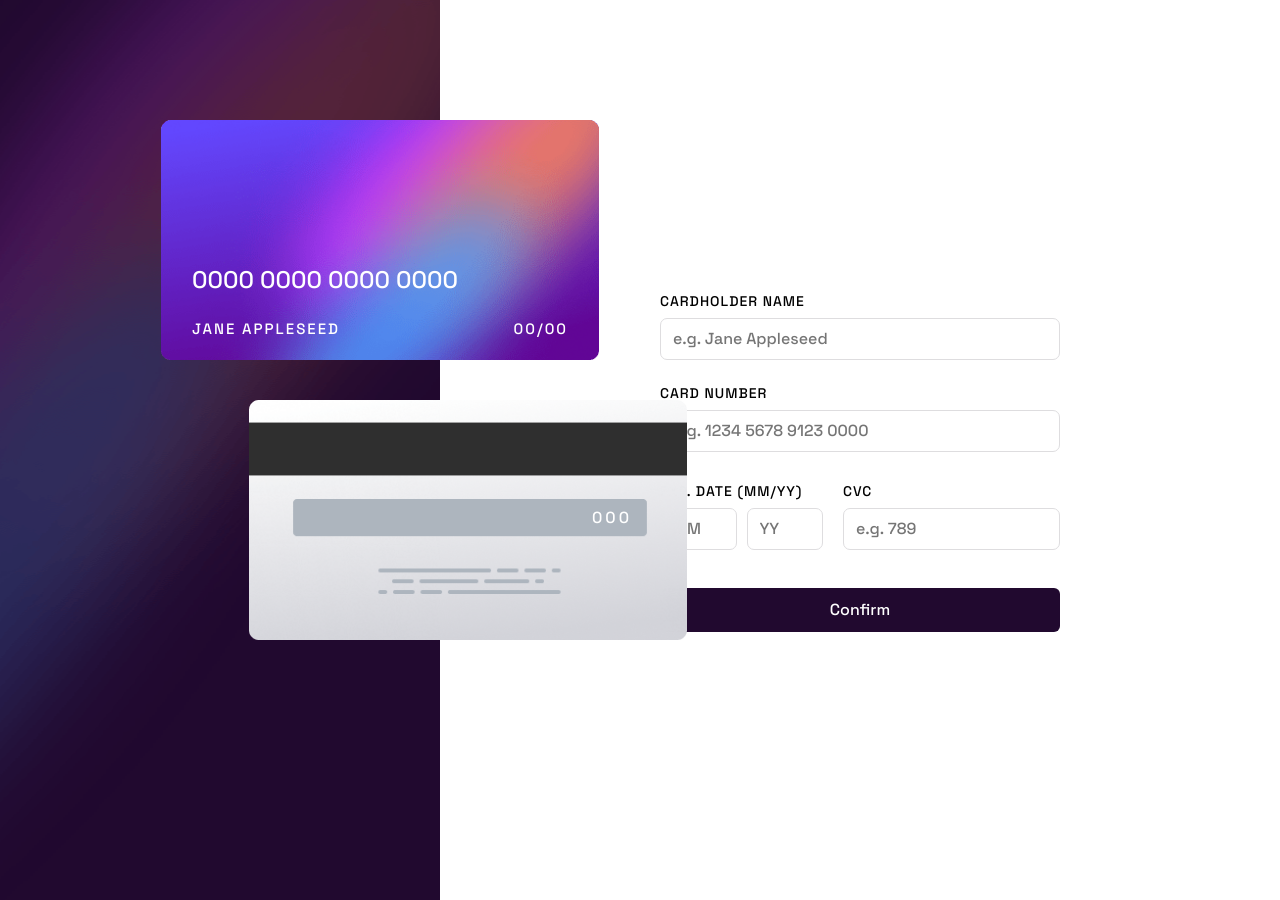
Test case: App › should show thank you message when all details are valid
Type "Elon Musk" into the field labelled "Cardholder Name" at (860, 339), box [660,318,1060,360]
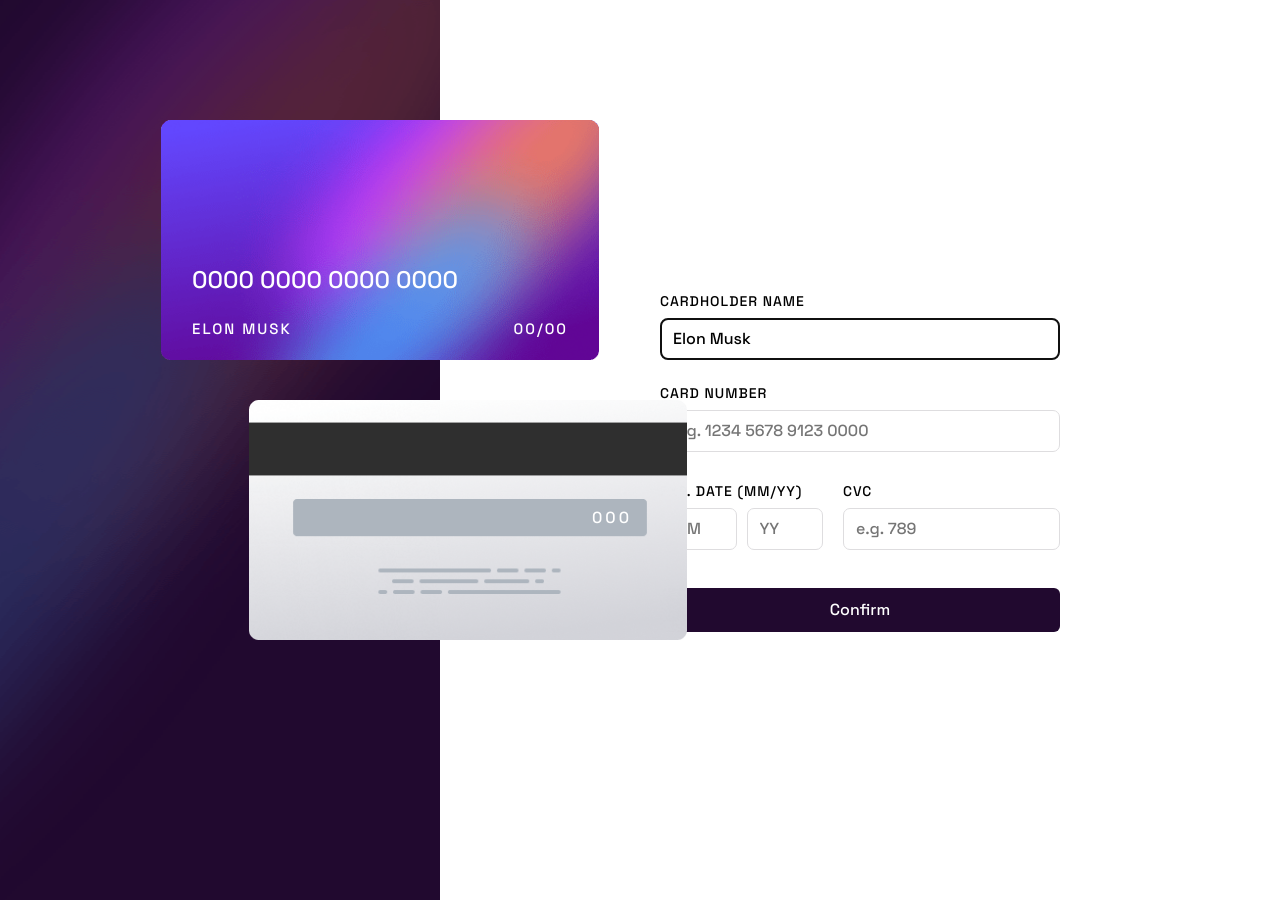
Type "4111 1111 1111 1111" into the field labelled "Card Number" at (860, 431), box [660,410,1060,452]
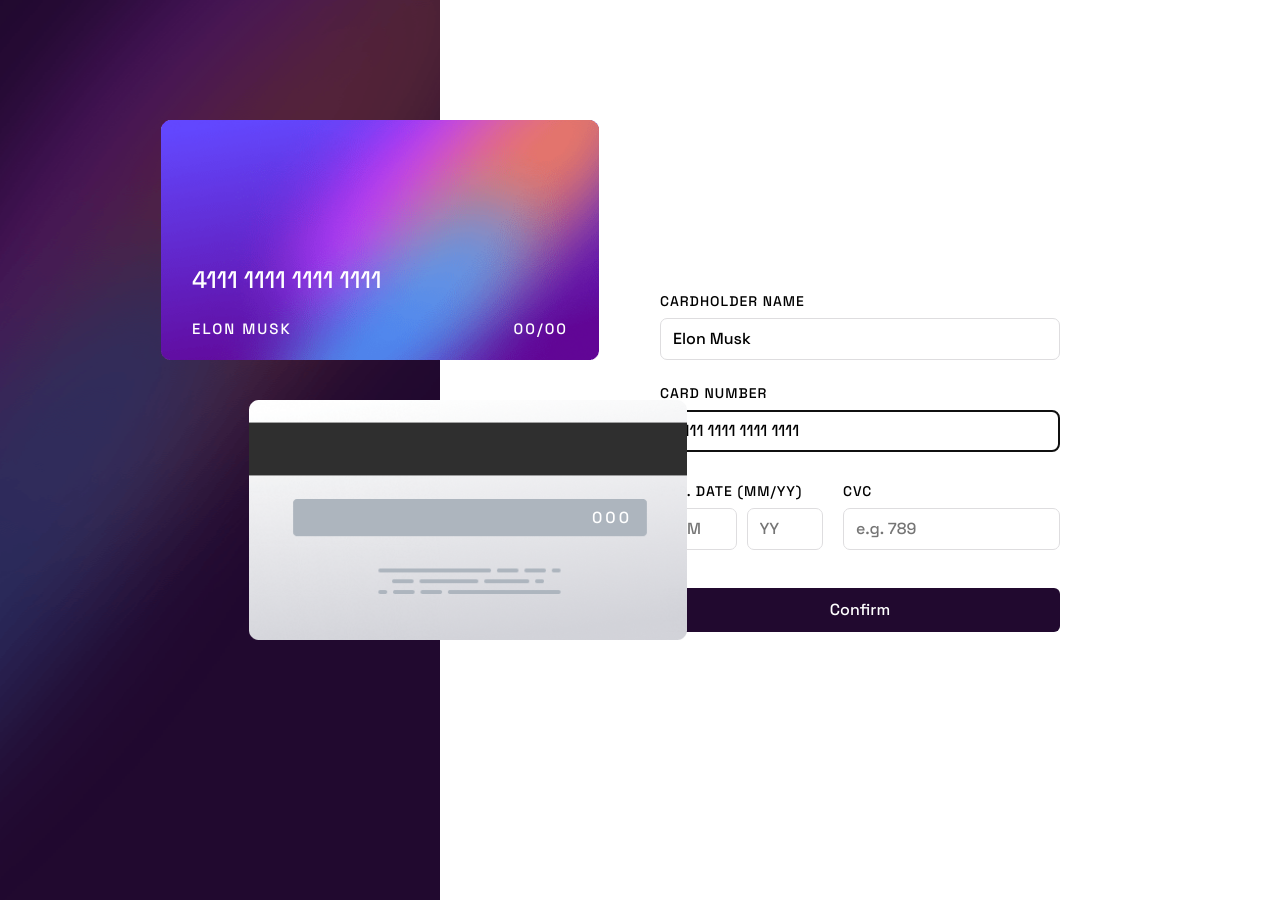
Type "04" into the field with placeholder "MM" at (698, 529), box [660,508,736,550]
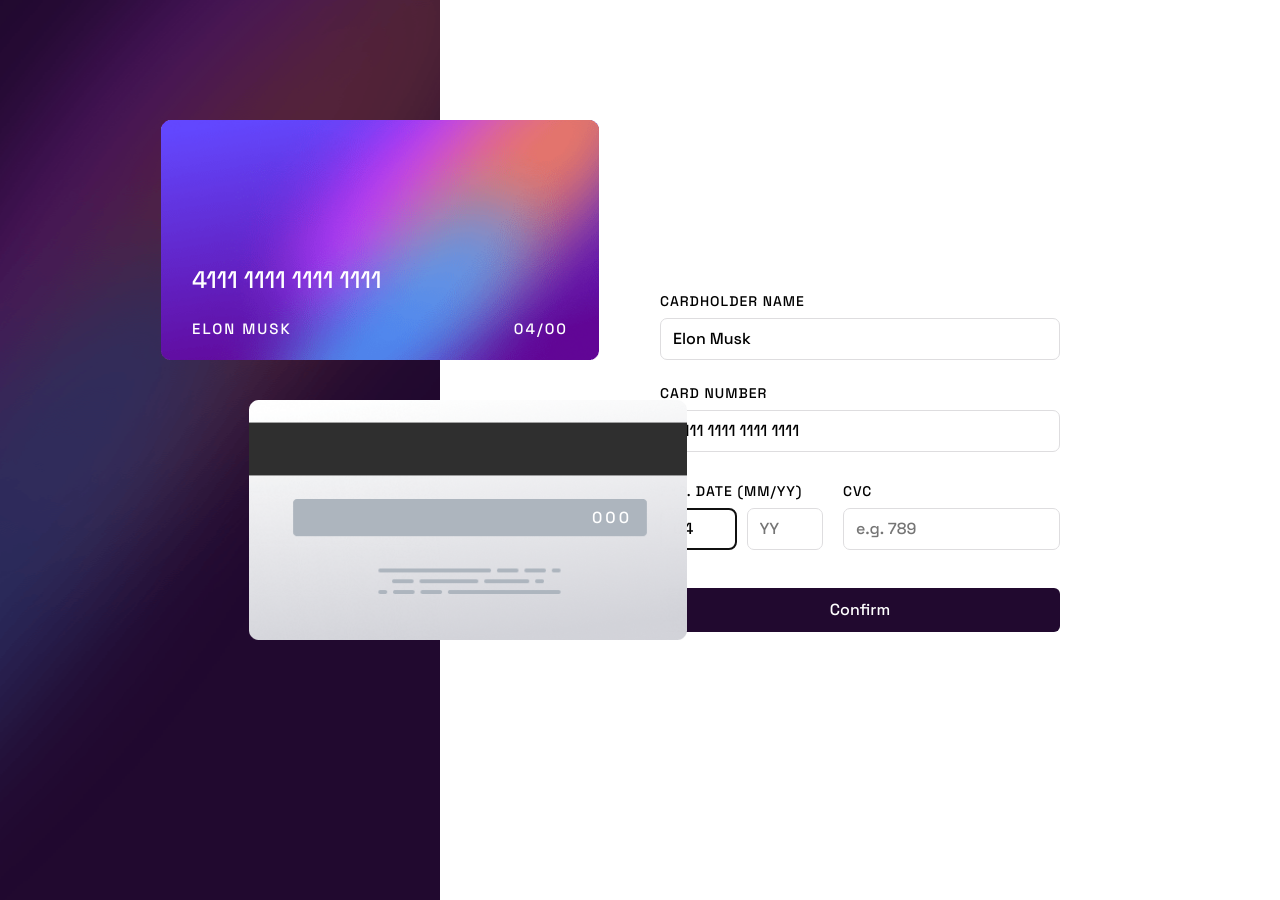
Type "2029" into the field with placeholder "YY" at (785, 529), box [746,508,823,550]
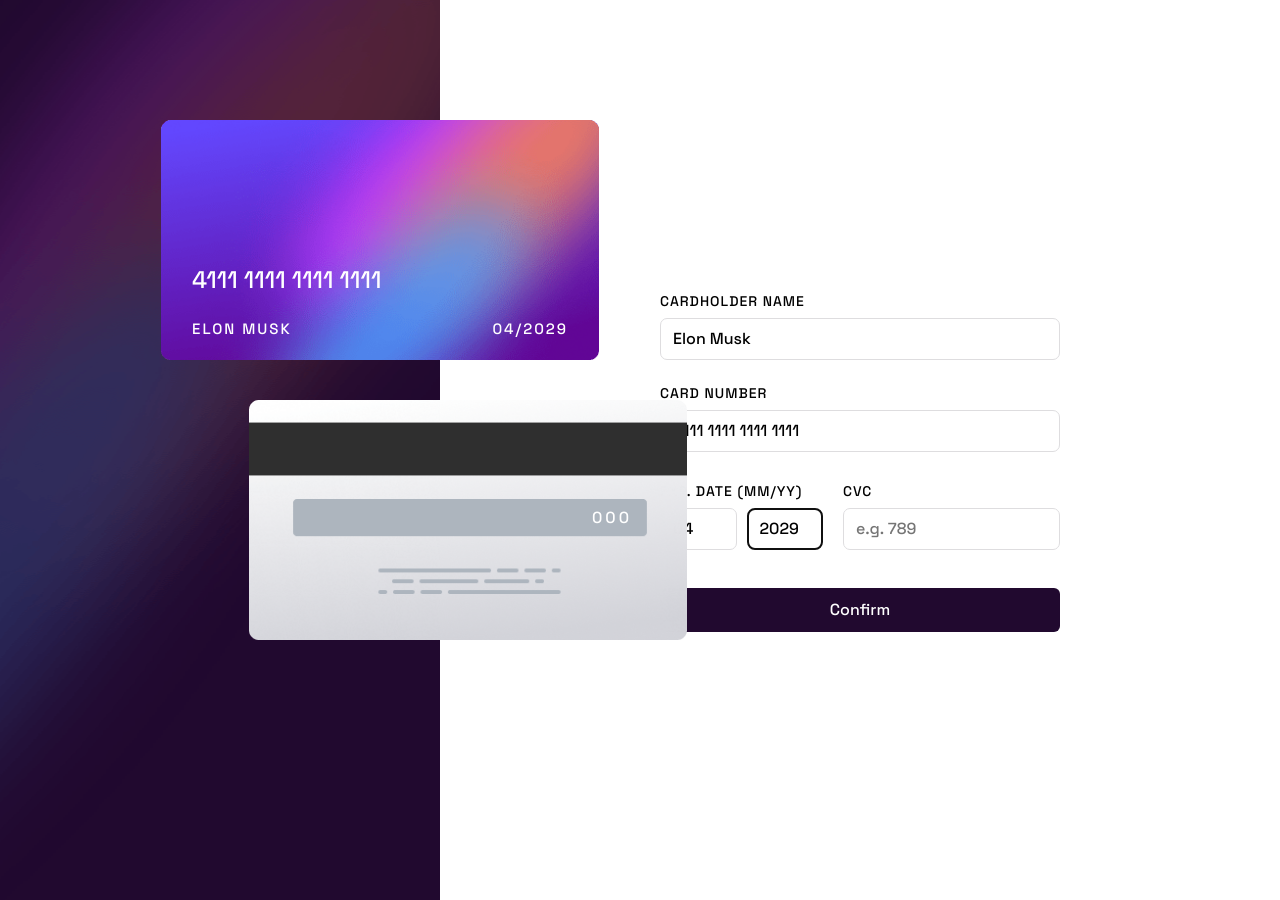
Type "123" into the field labelled "CVC" at (952, 529), box [843,508,1060,550]
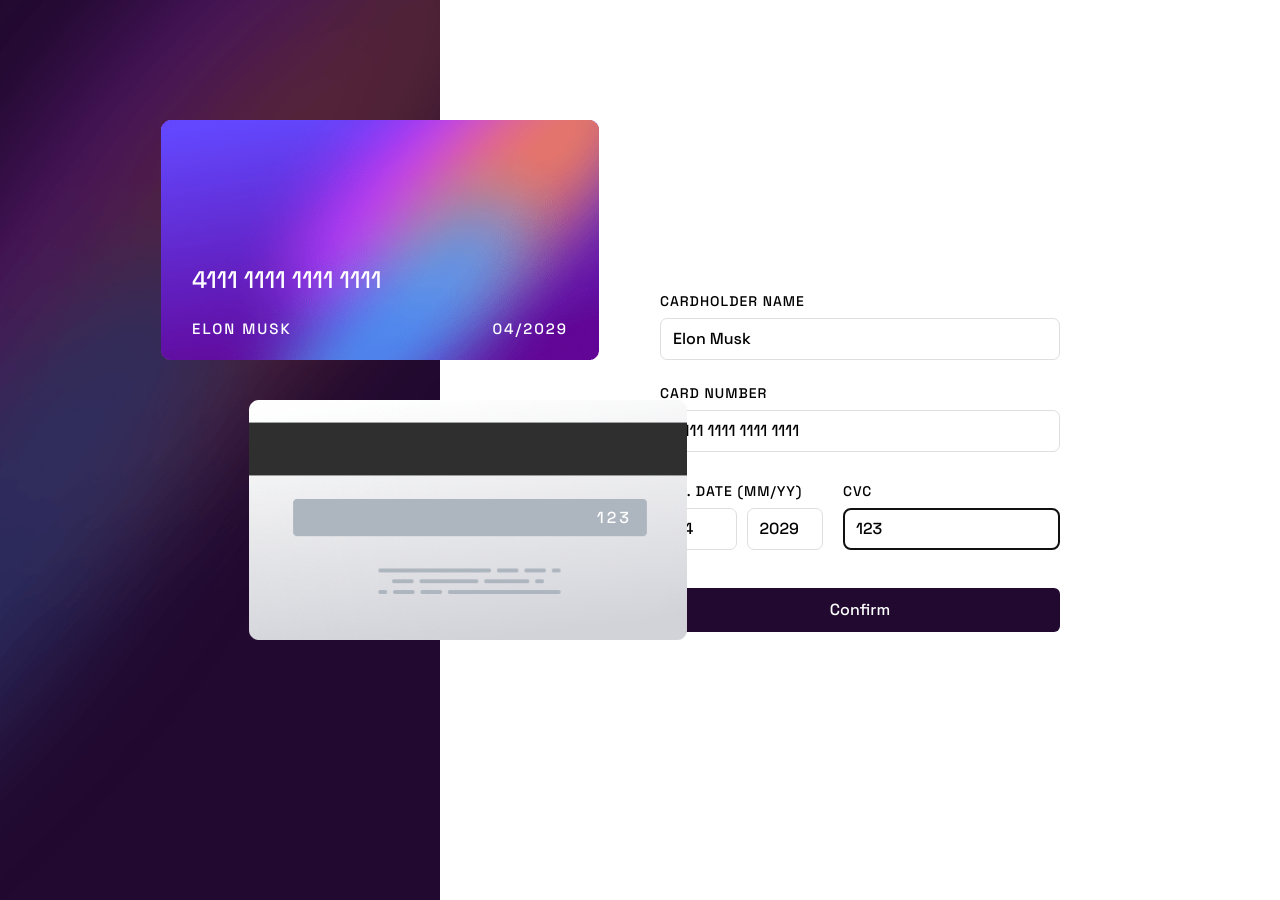
Click the button "Confirm" at (860, 610), box [660,588,1060,632]
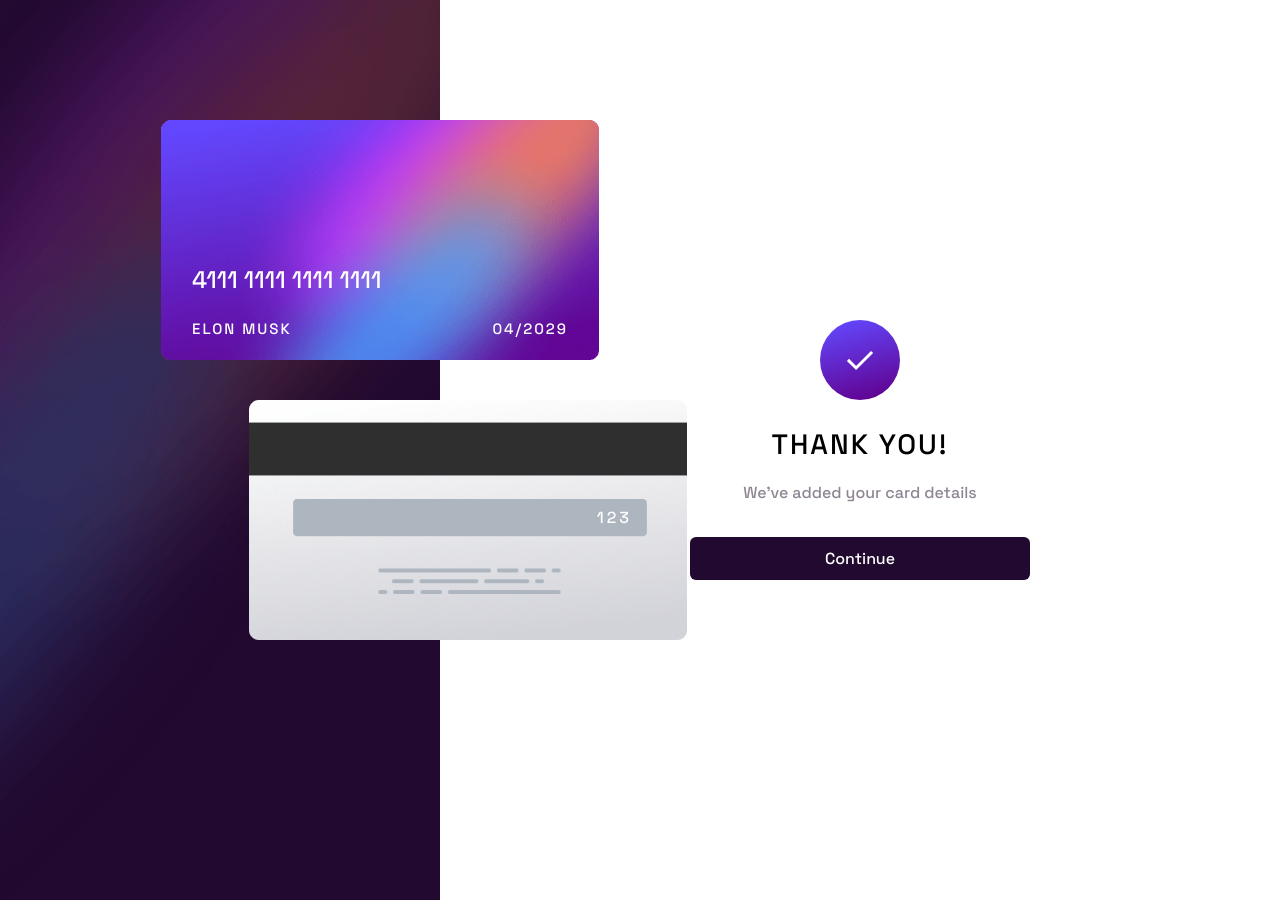
expect the heading "Thank You!" is shown: met, box [771,423,948,465]
